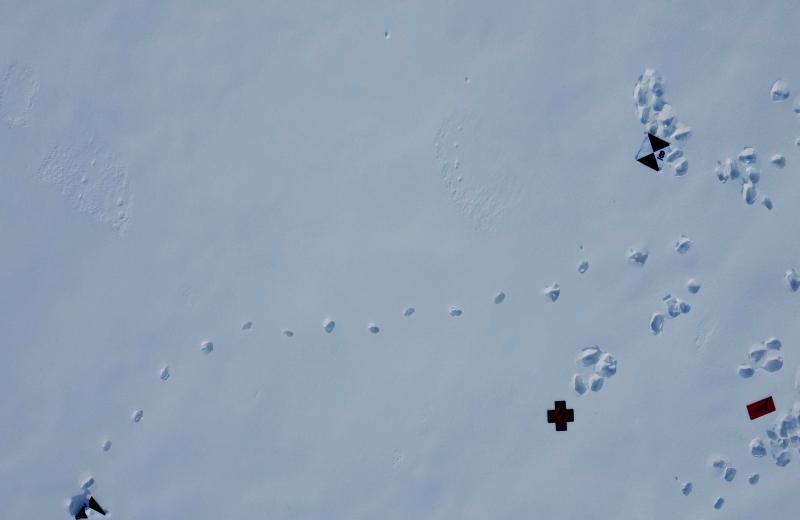Cross: (543, 397, 576, 436)
Rectangle: (743, 394, 780, 420)
